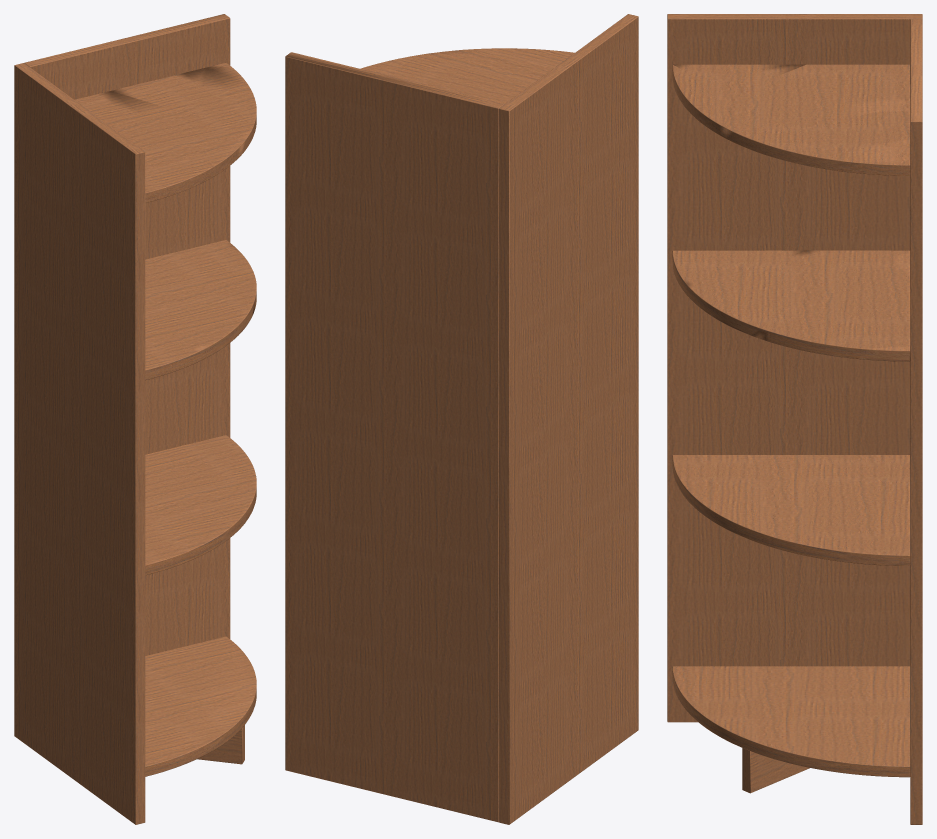
The model's file is b529df0c-671b-4589-bc1c-367fda168cc4.glb.
The picture shows the model from 3 angles, left to right: view 1: azimuth 30°, elevation 25°; view 2: azimuth 150°, elevation 25°; view 3: azimuth 270°, elevation 25°; orthographic projection. The views are drawn at different scales.
Parts seen in each view (by area): view 1: corner_shelf_bottom_part; view 2: corner_shelf_bottom_part; view 3: corner_shelf_bottom_part.
Part boxes in pixels (x1,y1,x2,y2): corner_shelf_bottom_part: (14,14,256,824); corner_shelf_bottom_part: (285,14,638,824); corner_shelf_bottom_part: (667,14,922,824).
Size of the model in its own units: 0.355 by 1.08 by 0.355.
1 material, 1 textured.
